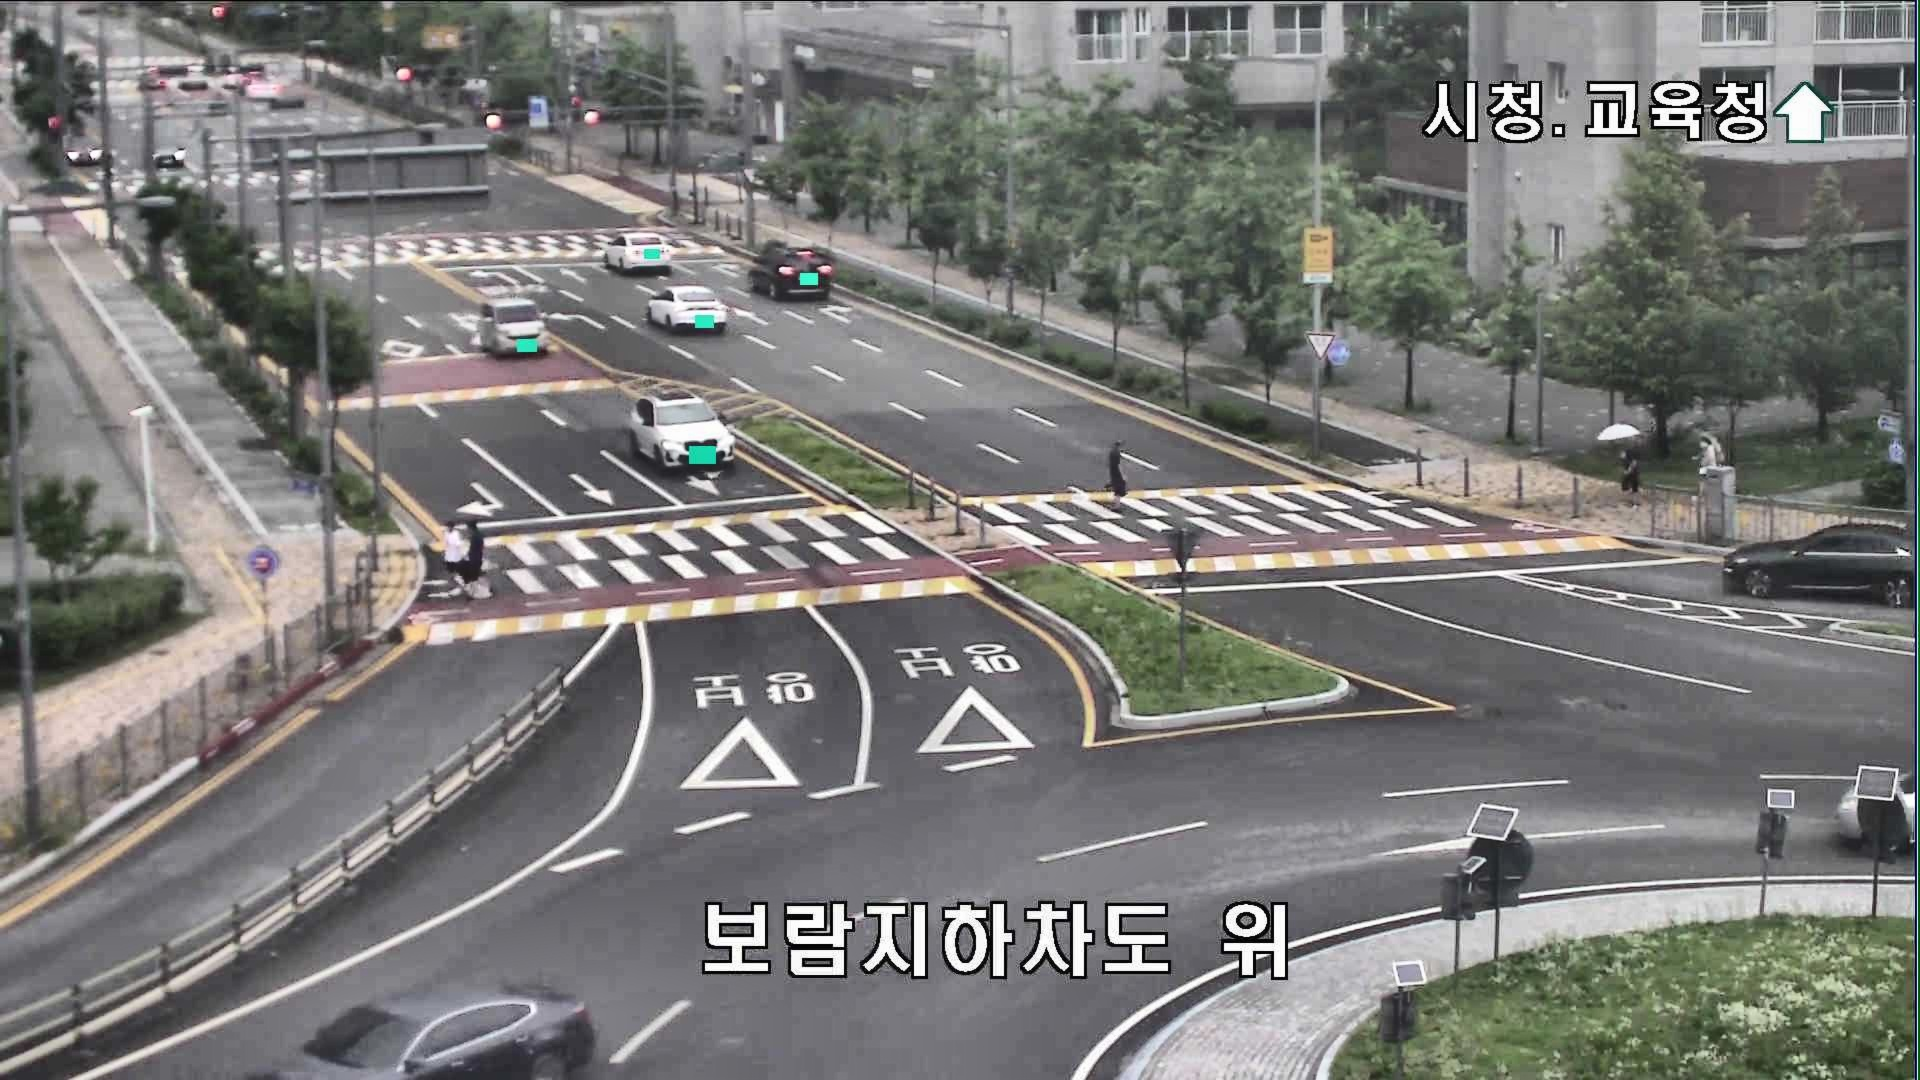crosswalk: (462, 516, 488, 597), (440, 522, 464, 593), (1106, 440, 1127, 510)
um_sidewalk: (1596, 423, 1644, 510), (1688, 423, 1730, 506)
